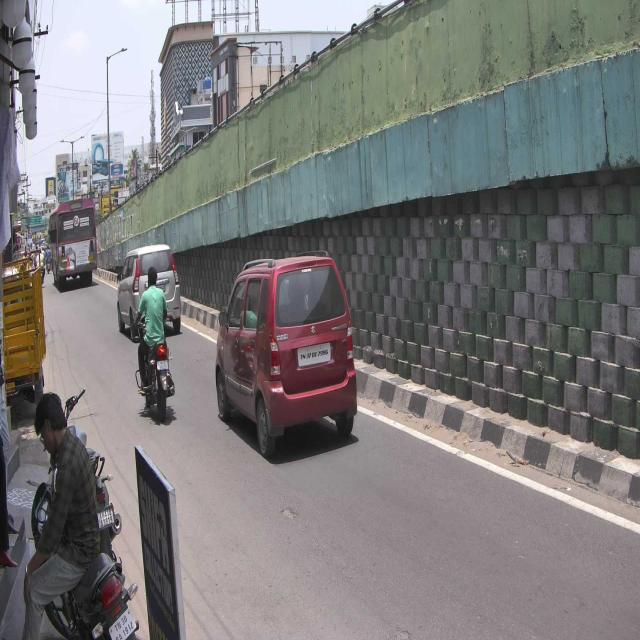single_rider: (129, 266, 177, 420)
